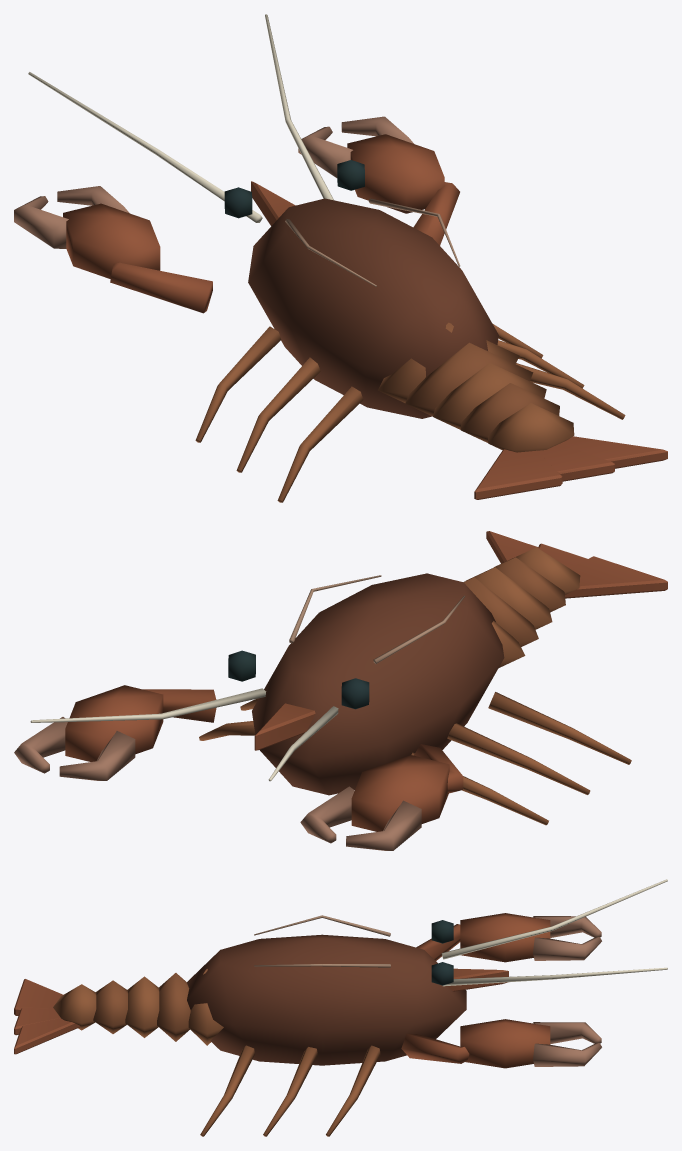
The model's file is fish_crayfish.glb.
The picture shows the model from 3 angles, top to bottom: view 1: azimuth 30°, elevation 25°; view 2: azimuth 150°, elevation 25°; view 3: azimuth 270°, elevation 25°; orthographic projection. The views are drawn at different scales.
Bounding box in the file's own units: 0.061 × 0.0303 × 0.12.
